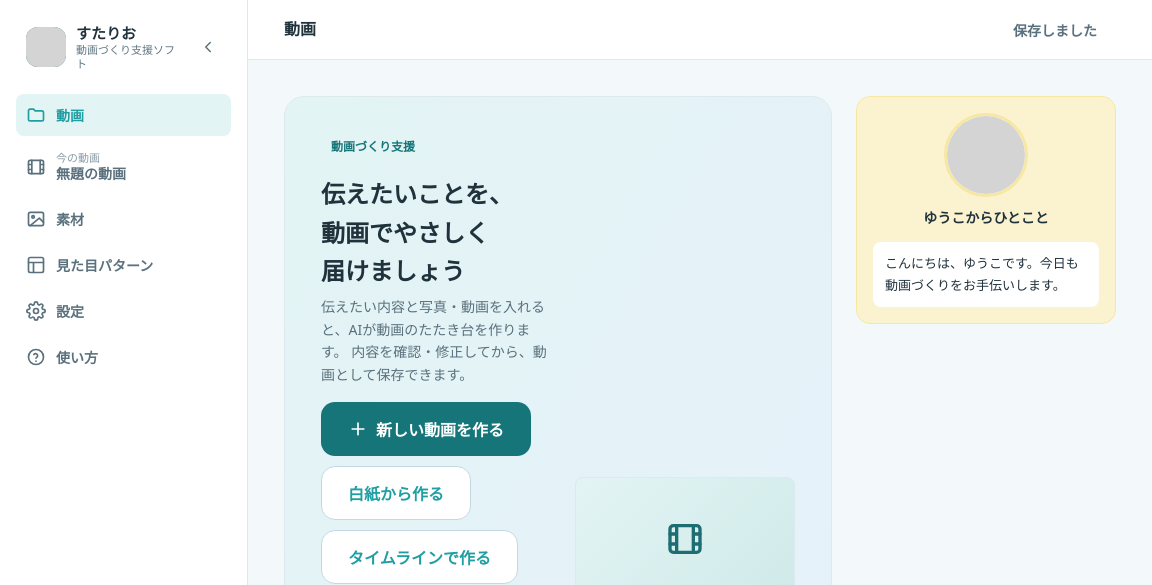
Test: App 書き出しの終了通知の配線（#589 統合） › 独自ヘッダの画面（場面編集）でも消えない＝待っている人にこそ必要
Click the button "今の動画 無題の動画".
click(124, 167)  # box [16,140,231,194]
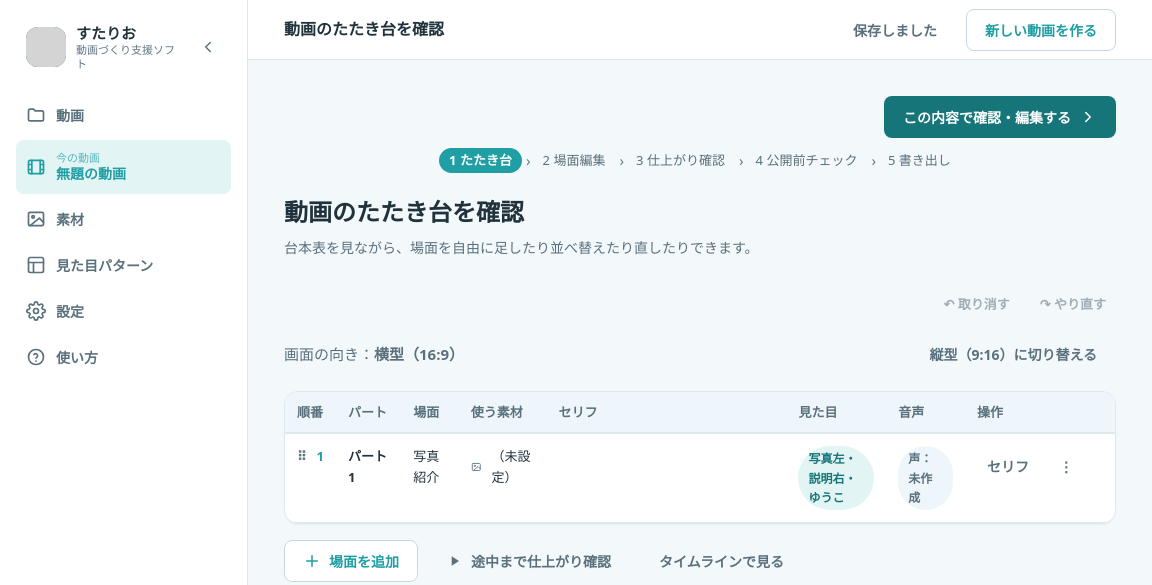
Click the button "この内容で確認・編集する".
click(1000, 117)  # box [884,96,1116,138]
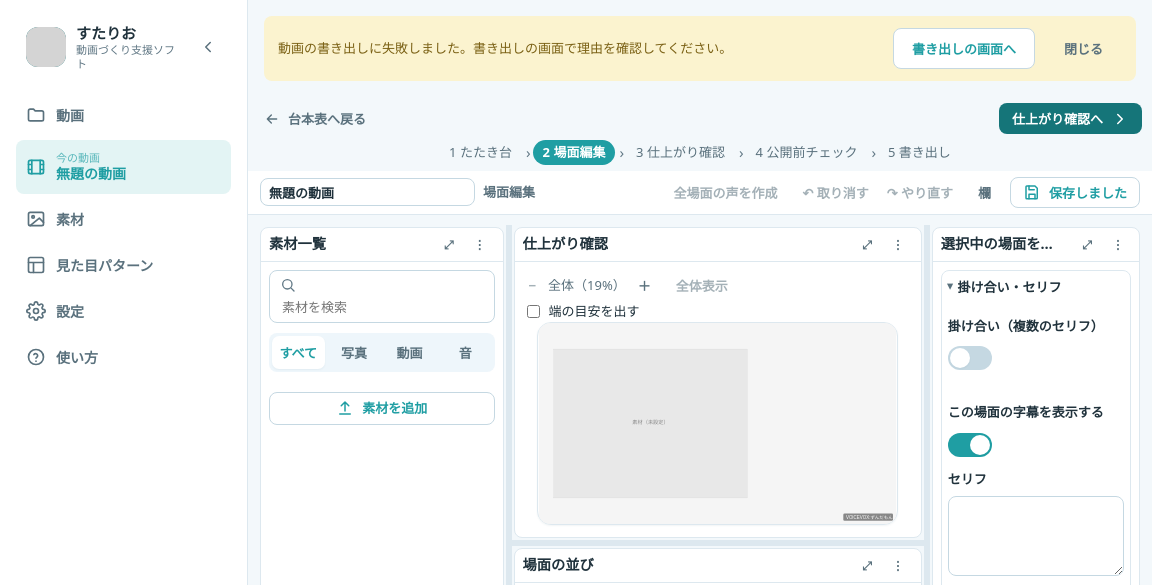
expect the button "台本表へ戻る" is shown: met, box [258,103,372,134]
expect the text "動画の書き出しに失敗しました。書き出しの画面で理由を確認してください。" is shown: met, box [278,38,732,59]
